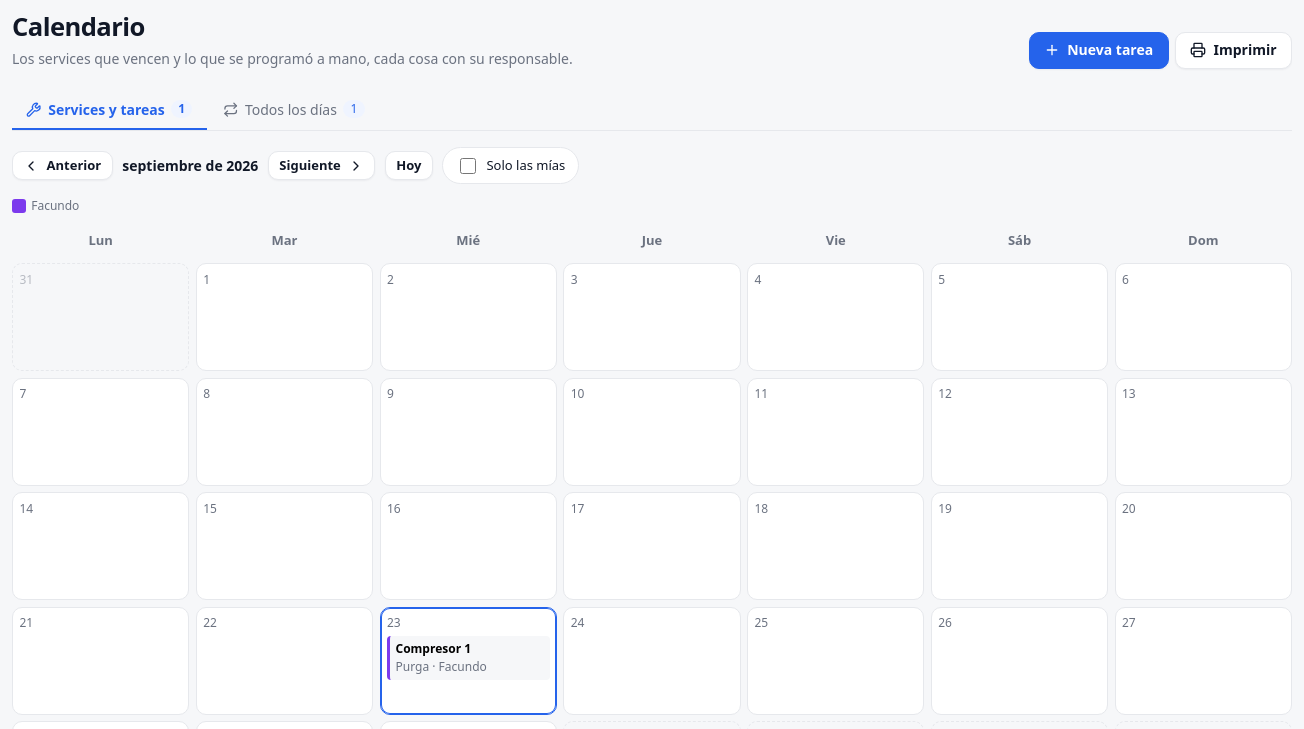
it: CalendarioPage: equipo primero y lo de todos los días aparte › lo de todos los días va en su pestaña y no se mezcla con lo demás
This screenshot has width=1304, height=729.
Expected: the text "Compresor 1" is shown, [396,640,471,657]
Expected: the text "Recorrida de tableros" is not shown
Click the tab "Todos los días 1" at (294, 110), box [209,91,379,130]
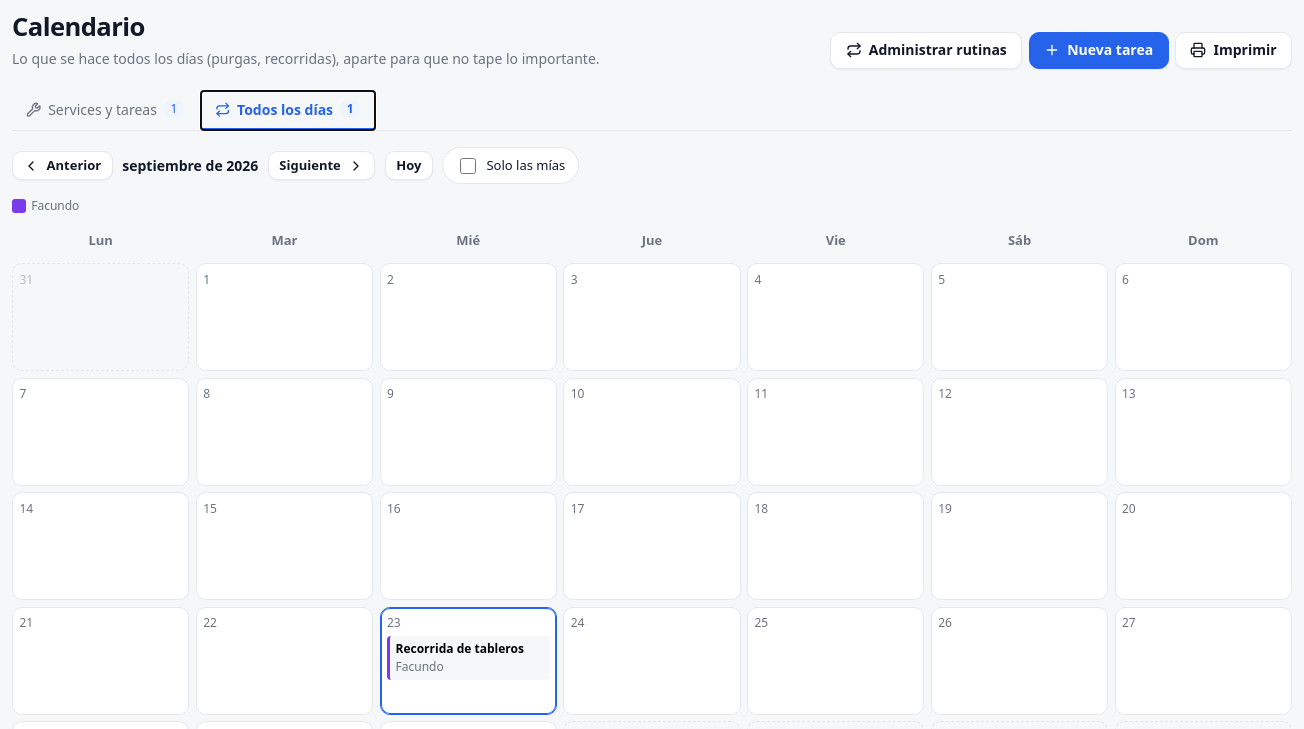
Expected: the text "Recorrida de tableros" is shown, [396,640,544,658]
Expected: the button "Compresor 1" is gone
